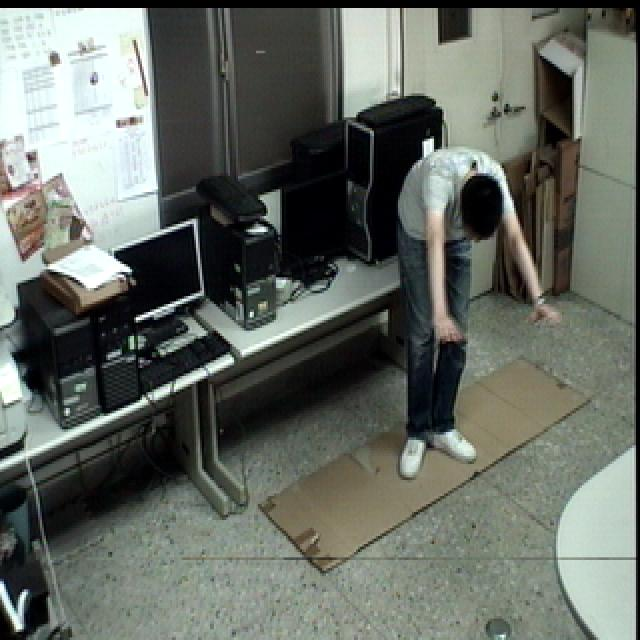bend: (392, 136, 564, 482)
